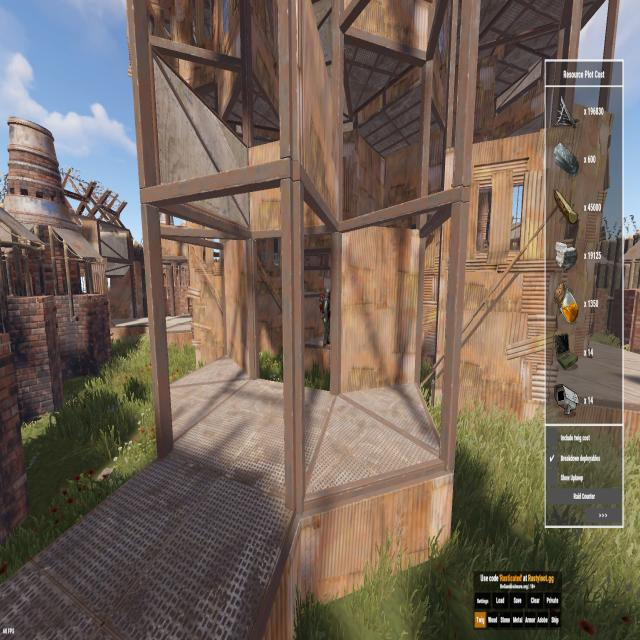Player: (318, 287, 331, 349)
